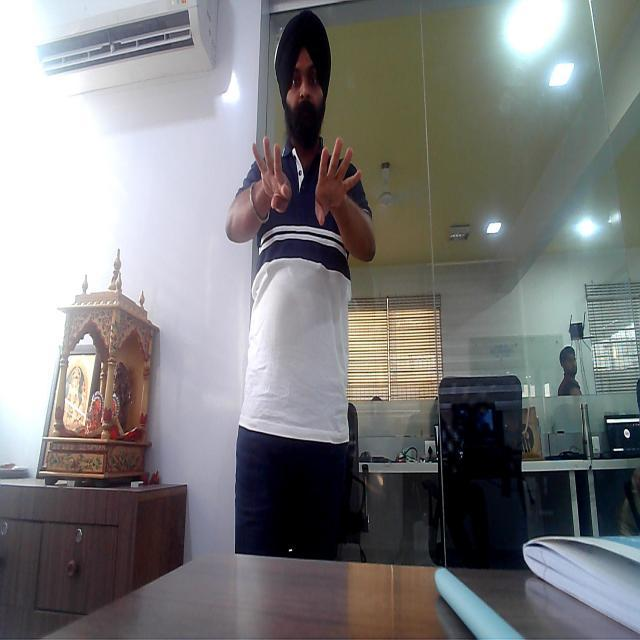without_gloves: (307, 137, 383, 235), (250, 133, 296, 220)
